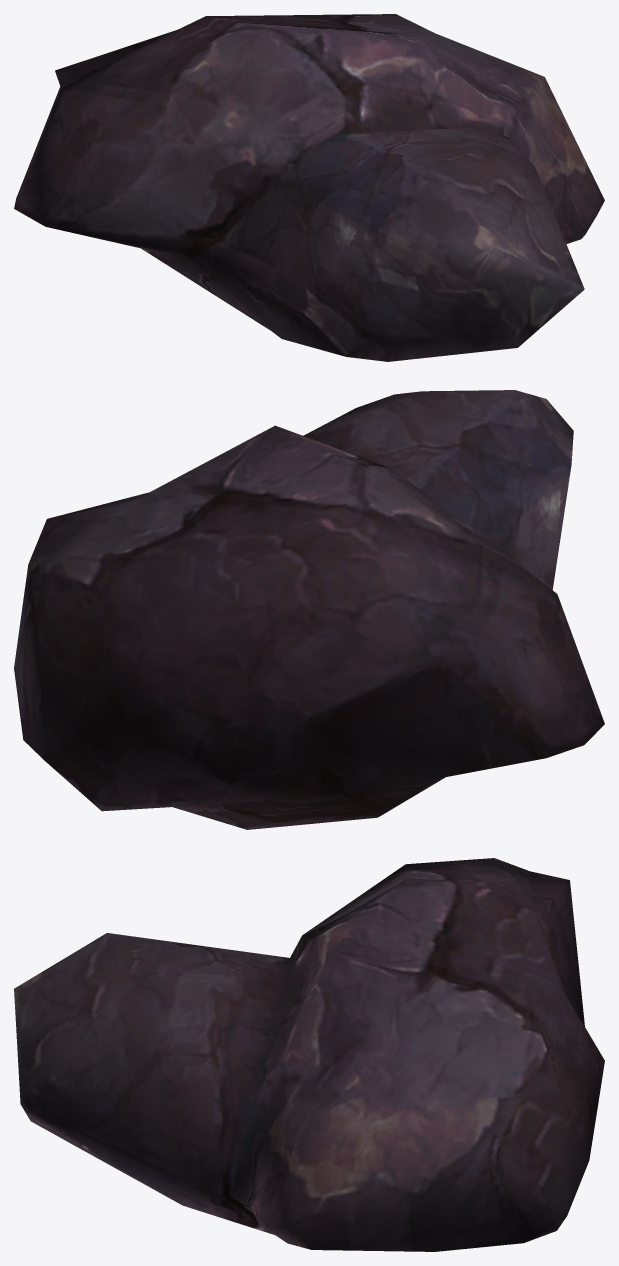
The model's file is ord_env_boulders_sml_no_moss_01.glb.
The picture shows the model from 3 angles, top to bottom: view 1: azimuth 30°, elevation 25°; view 2: azimuth 150°, elevation 25°; view 3: azimuth 270°, elevation 25°; orthographic projection. The views are drawn at different scales.
Visible parts, largest first — view 1: ord_env_boulders_sml_no_moss_01; view 2: ord_env_boulders_sml_no_moss_01; view 3: ord_env_boulders_sml_no_moss_01.
Part boxes in pixels (x1,y1,x2,y2): ord_env_boulders_sml_no_moss_01: [14, 14, 604, 361]; ord_env_boulders_sml_no_moss_01: [14, 390, 604, 829]; ord_env_boulders_sml_no_moss_01: [14, 858, 604, 1251].
Bounding box in the file's own units: 0.5364 × 0.3186 × 0.529.
Materials: 1 (1 with a texture image).
